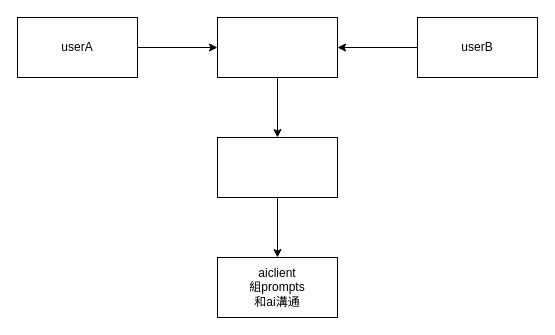
Some shapes in this 555 by 335 pixel diagram are drawn without their labels. The shapes that lost their labels are listed below. From the top down, each one's box as (x1, y1, x2, y2) in pixels, then its label:
(216, 16, 338, 78): gatekeeper vip等等驗證
(216, 136, 338, 198): collector 去database拿資料
